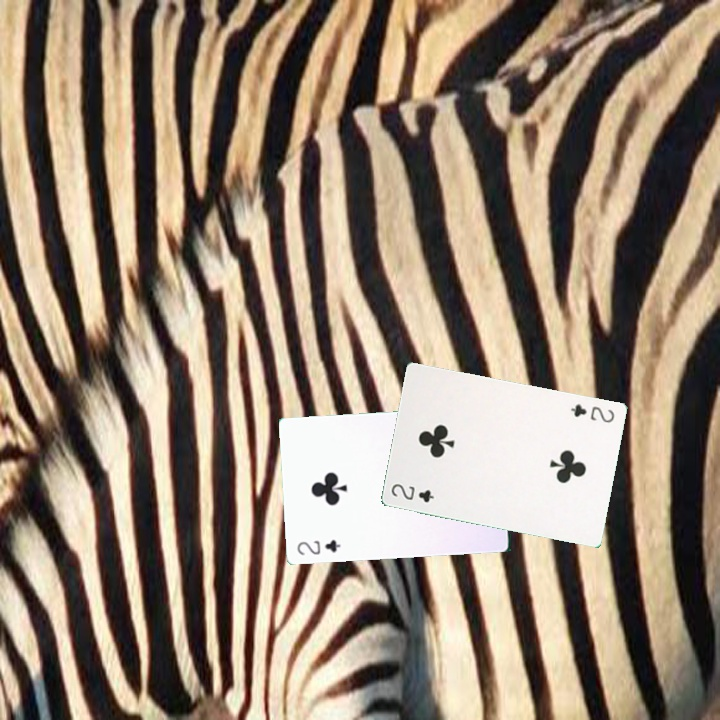2c: (387, 479, 437, 505), (567, 400, 617, 425), (293, 536, 343, 557)
